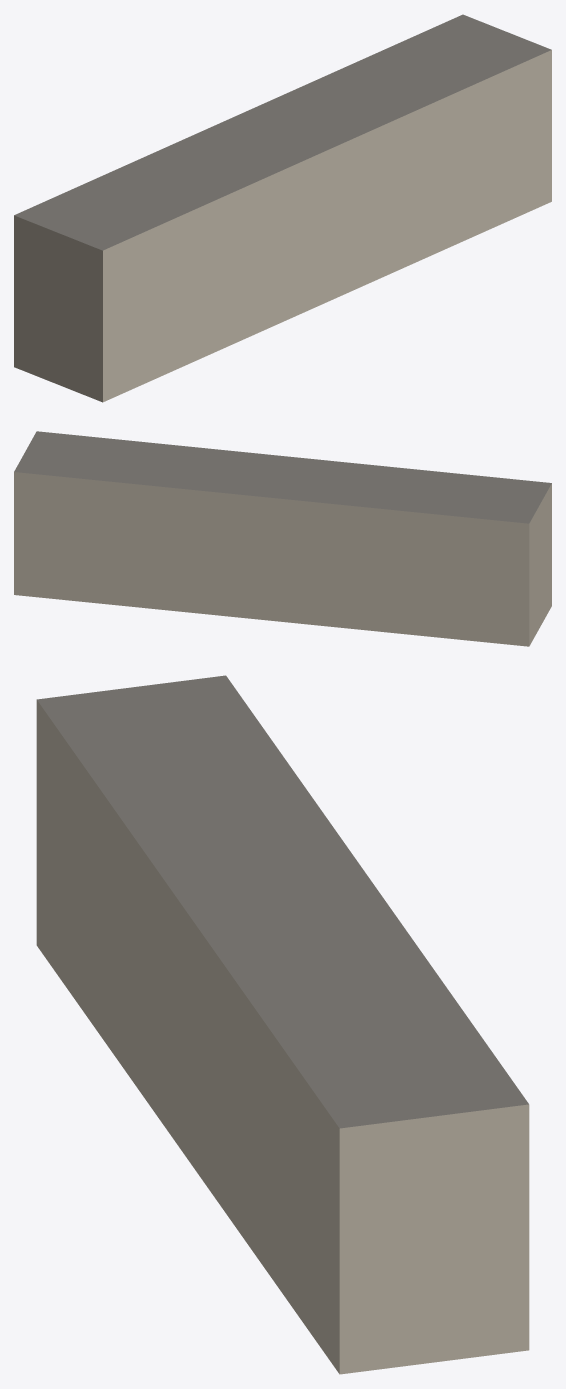
3 renders of one model, top to bottom at view 1: azimuth 30°, elevation 25°; view 2: azimuth 150°, elevation 25°; view 3: azimuth 270°, elevation 25°, orthographic. The views are drawn at different scales.
Visible parts, largest first — view 1: HP-w1202493212; view 2: HP-w1202493212; view 3: HP-w1202493212.
Part boxes in pixels (<box>): HP-w1202493212: <box>14,14,551,402</box>; HP-w1202493212: <box>14,431,551,646</box>; HP-w1202493212: <box>36,675,529,1374</box>.
Size of the model in its own units: 47.39 by 12 by 21.78.
